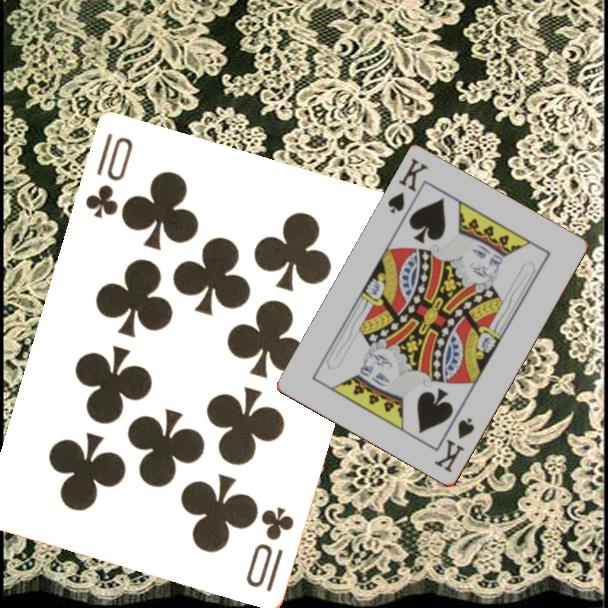c10: (242, 503, 298, 596), (82, 130, 137, 222)
s13: (431, 414, 478, 476), (384, 155, 431, 217)
